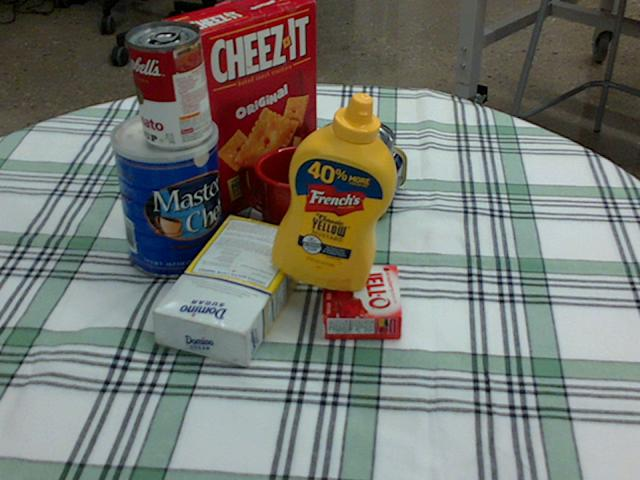cracker_box: (161, 0, 315, 218)
gelatin_box: (321, 264, 400, 338)
master_chef_can: (109, 110, 225, 278)
mug: (240, 144, 340, 246)
mustard_bottle: (271, 92, 396, 290)
potted_meat_can: (300, 133, 403, 217)
sugar_box: (153, 214, 311, 365)
tomato_soup_can: (128, 20, 211, 148)
tuna_fish_can: (316, 119, 393, 179)
